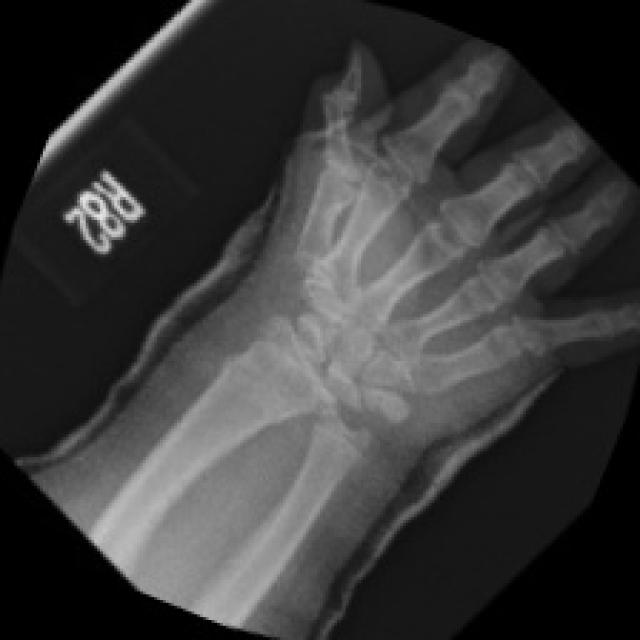fracture: (198, 327, 336, 458)
